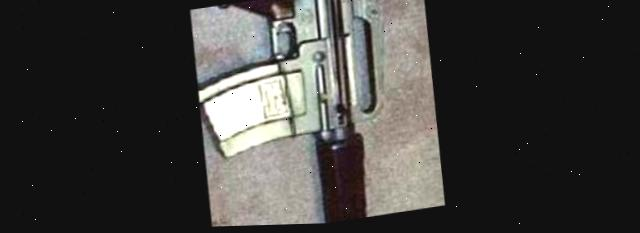rifle: (185, 0, 426, 229)
